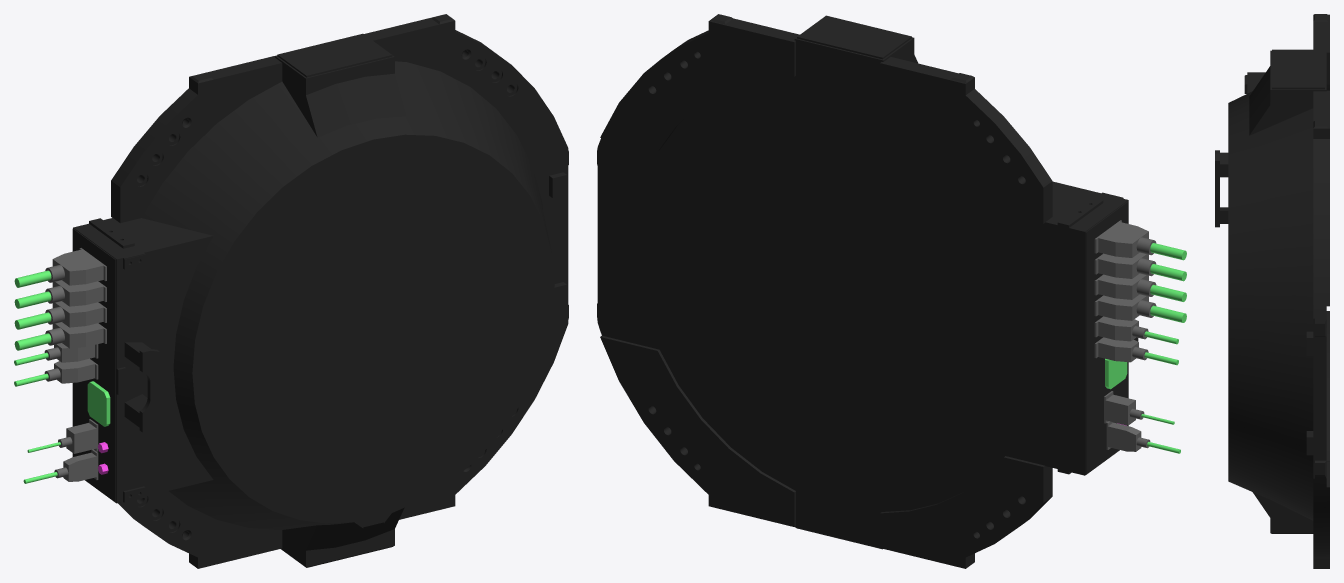
The picture shows the model from 3 angles, left to right: view 1: azimuth 30°, elevation 25°; view 2: azimuth 150°, elevation 25°; view 3: azimuth 270°, elevation 25°; orthographic projection. The views are drawn at different scales.
Visible parts, largest first — view 1: M-2000iA-2300µ××ù/µ××ù^3D_M-2000iA_2300_v02/ST201_gray_2, M-2000iA-2300µ××ù/µ××ù^3D_M-2000iA_2300_v02/ST201_white, M-2000iA-2300µ××ù/µ××ù^3D_M-2000iA_2300_v02/ST201_darkgray, M-2000iA-2300µ××ù/µ××ù^3D_M-2000iA_2300_v02/ST201_black; view 2: M-2000iA-2300µ××ù/µ××ù^3D_M-2000iA_2300_v02/ST201_gray_2, M-2000iA-2300µ××ù/µ××ù^3D_M-2000iA_2300_v02/ST201_white, M-2000iA-2300µ××ù/µ××ù^3D_M-2000iA_2300_v02/ST201_darkgray, M-2000iA-2300µ××ù/µ××ù^3D_M-2000iA_2300_v02/ST201_black; view 3: M-2000iA-2300µ××ù/µ××ù^3D_M-2000iA_2300_v02/ST201_gray_2.
Part boxes in pixels (x1,y1,x2,y2): M-2000iA-2300µ××ù/µ××ù^3D_M-2000iA_2300_v02/ST201_gray_2: [73, 14, 568, 568]; M-2000iA-2300µ××ù/µ××ù^3D_M-2000iA_2300_v02/ST201_white: [44, 248, 106, 481]; M-2000iA-2300µ××ù/µ××ù^3D_M-2000iA_2300_v02/ST201_darkgray: [72, 228, 115, 502]; M-2000iA-2300µ××ù/µ××ù^3D_M-2000iA_2300_v02/ST201_black: [14, 270, 110, 483]; M-2000iA-2300µ××ù/µ××ù^3D_M-2000iA_2300_v02/ST201_gray_2: [597, 14, 1138, 568]; M-2000iA-2300µ××ù/µ××ù^3D_M-2000iA_2300_v02/ST201_white: [1094, 220, 1156, 451]; M-2000iA-2300µ××ù/µ××ù^3D_M-2000iA_2300_v02/ST201_darkgray: [1085, 201, 1128, 474]; M-2000iA-2300µ××ù/µ××ù^3D_M-2000iA_2300_v02/ST201_black: [1105, 243, 1186, 453]; M-2000iA-2300µ××ù/µ××ù^3D_M-2000iA_2300_v02/ST201_gray_2: [1215, 14, 1329, 568].
Bounding box in the file's own units: 1785 × 1480 × 345.
